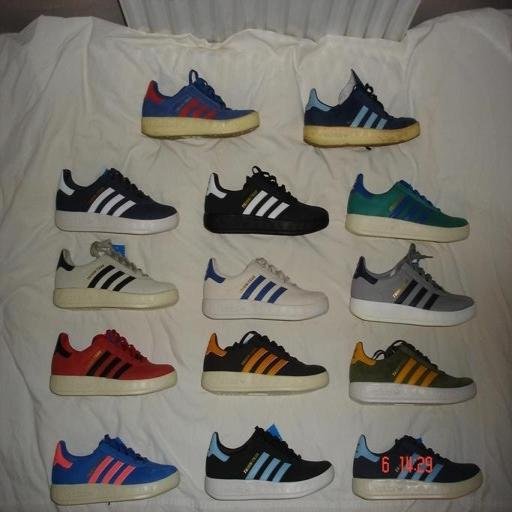shoe: (350, 244, 476, 326), (205, 425, 334, 500), (50, 435, 180, 505), (304, 70, 420, 147), (203, 166, 329, 235), (54, 240, 178, 309), (352, 435, 483, 499), (346, 174, 469, 242), (49, 330, 177, 395), (349, 340, 477, 404), (55, 168, 178, 234), (202, 331, 329, 394), (142, 70, 259, 138), (202, 258, 328, 320)
